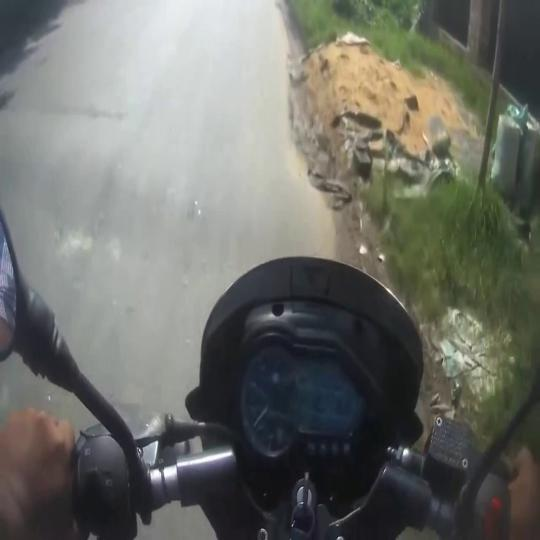Speed Bump: (16, 107, 338, 257)
